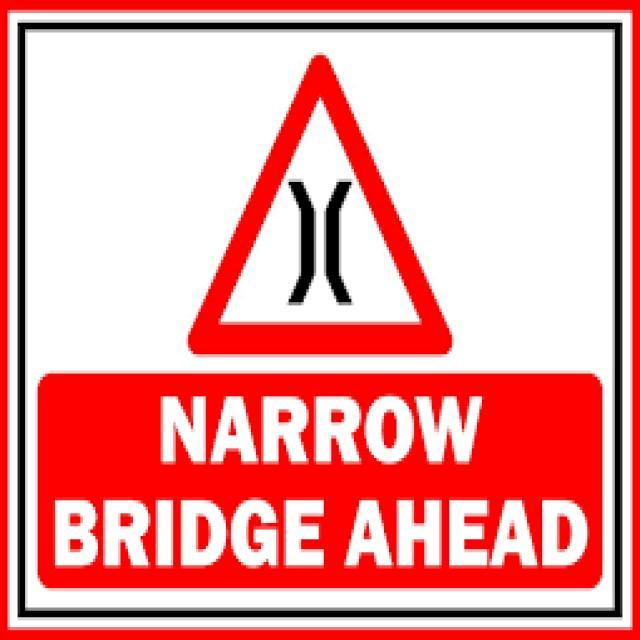narrow bridge ahead: (188, 46, 457, 360)
